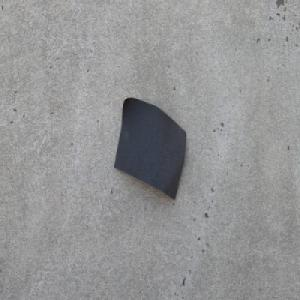PaintChip: (113, 95, 186, 201)
